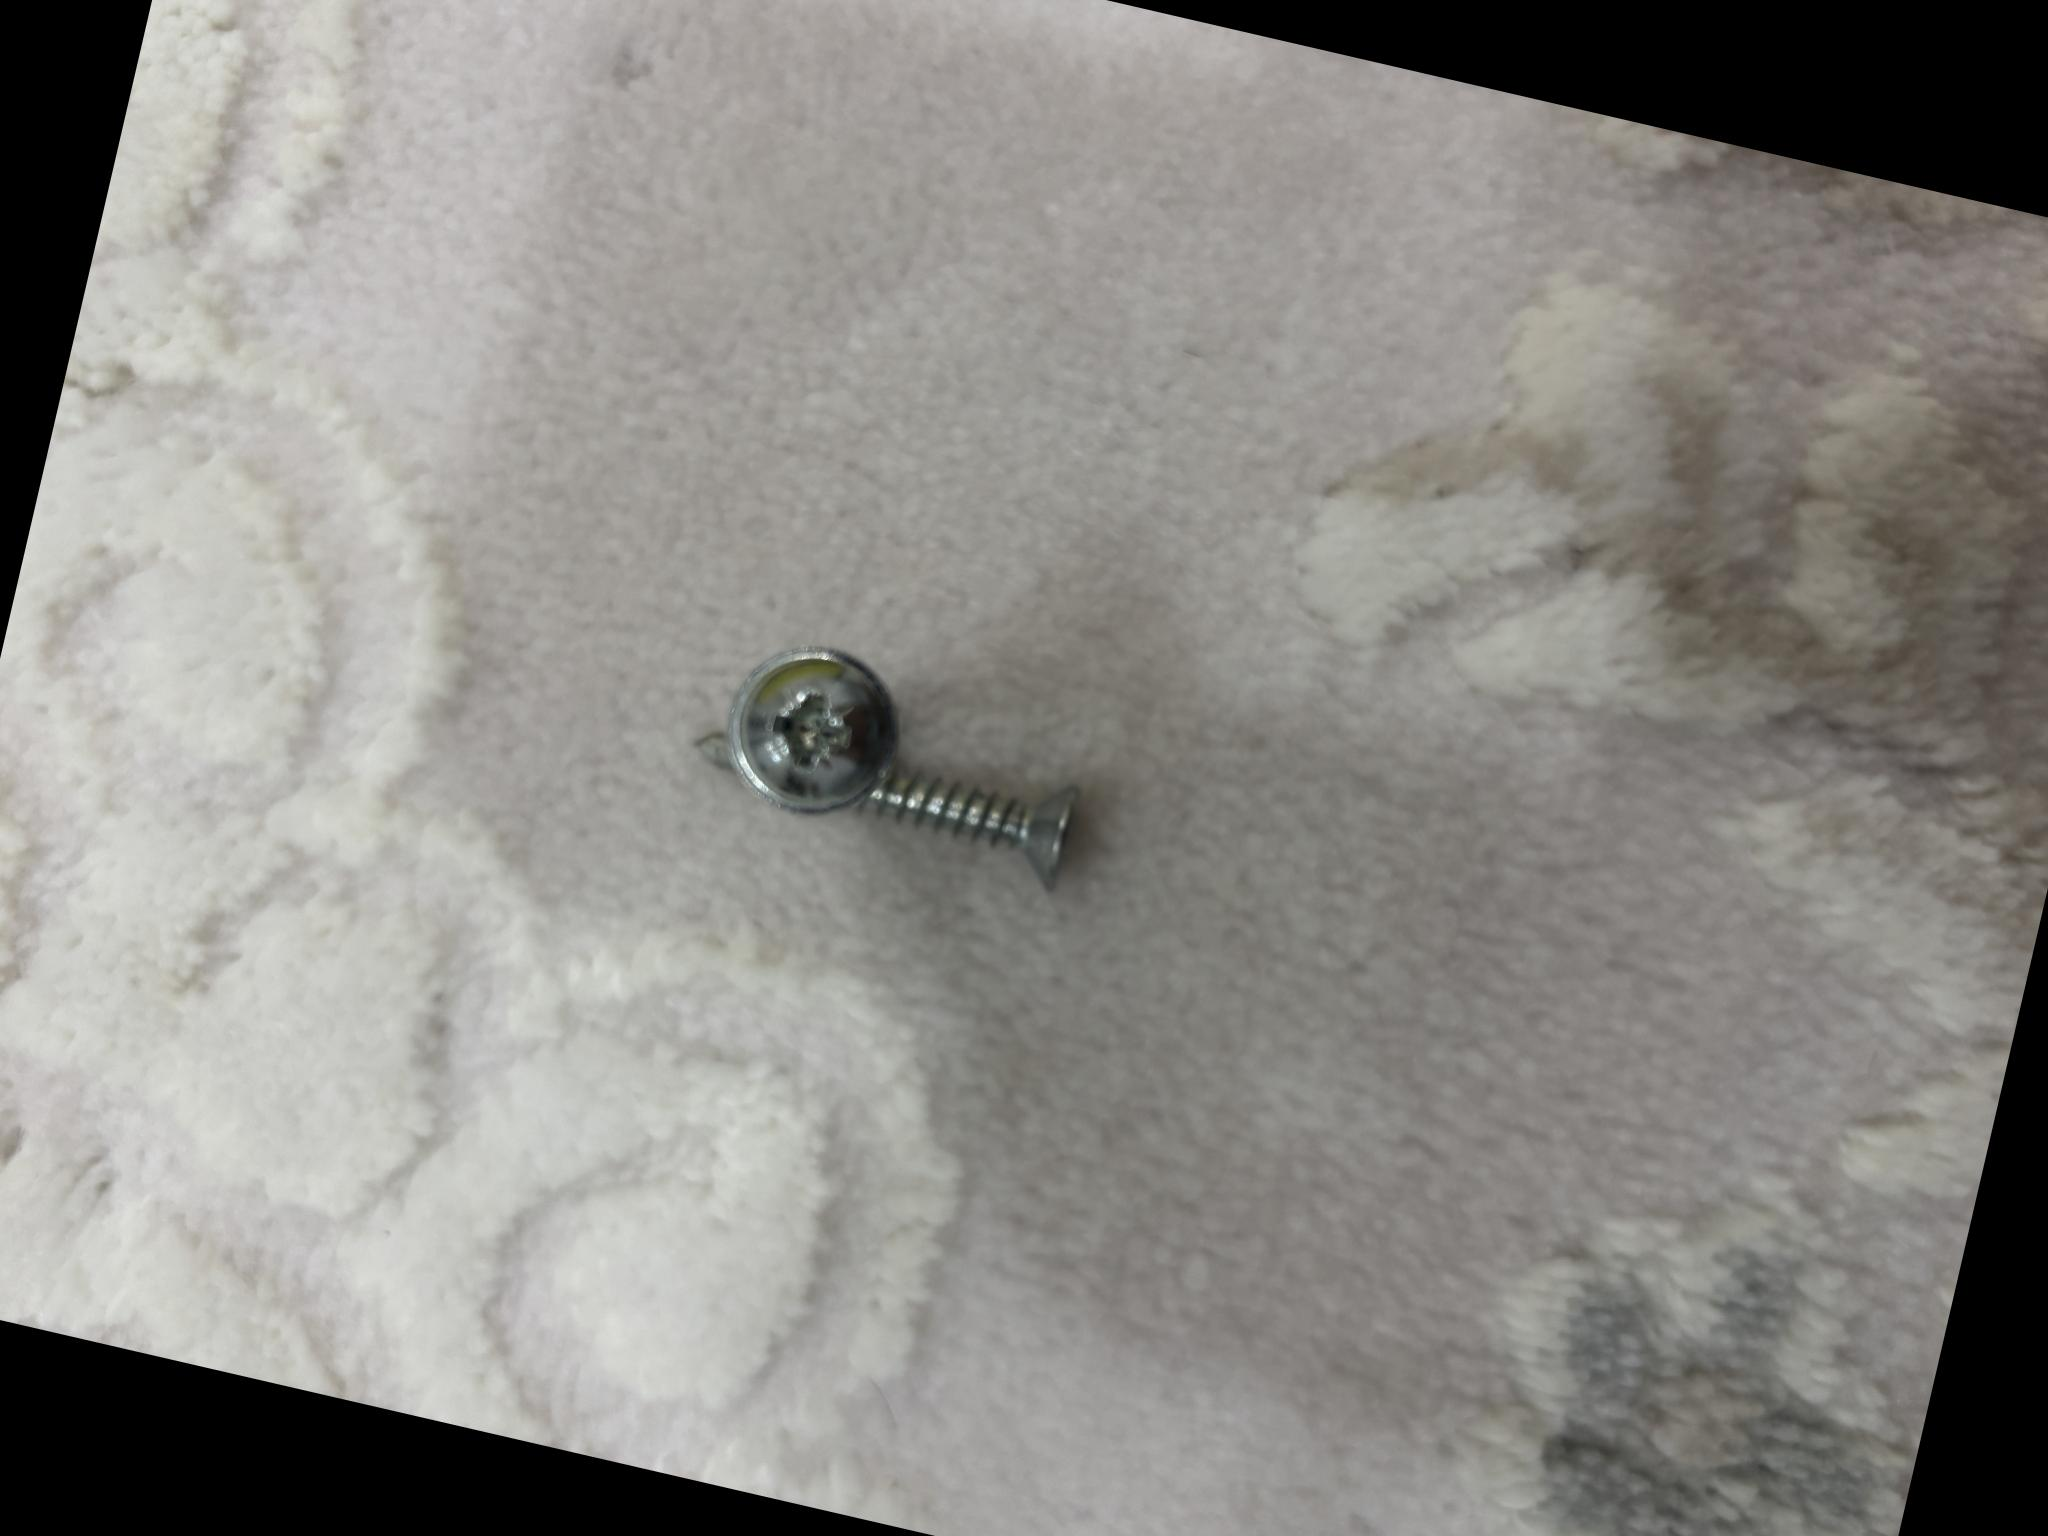PZ: (710, 589, 877, 762)
